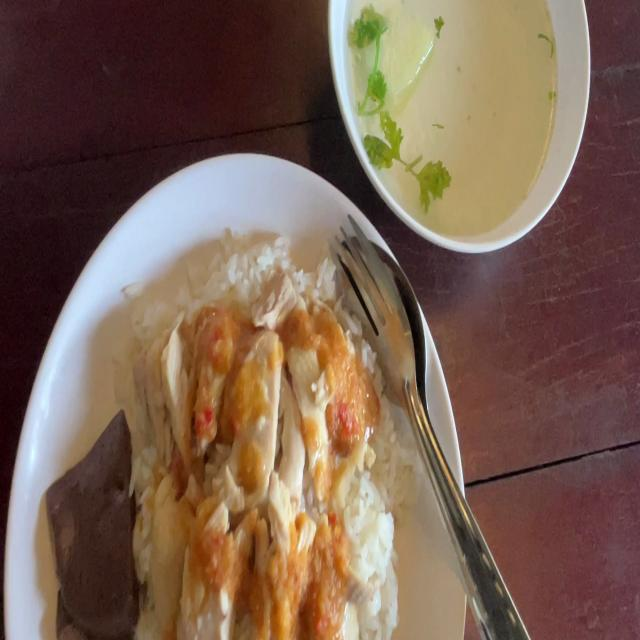boiled_chicken: (147, 292, 365, 623)
boiled_chicken_blood_jelly: (48, 410, 134, 629)
chicken_rice: (45, 259, 390, 640)
